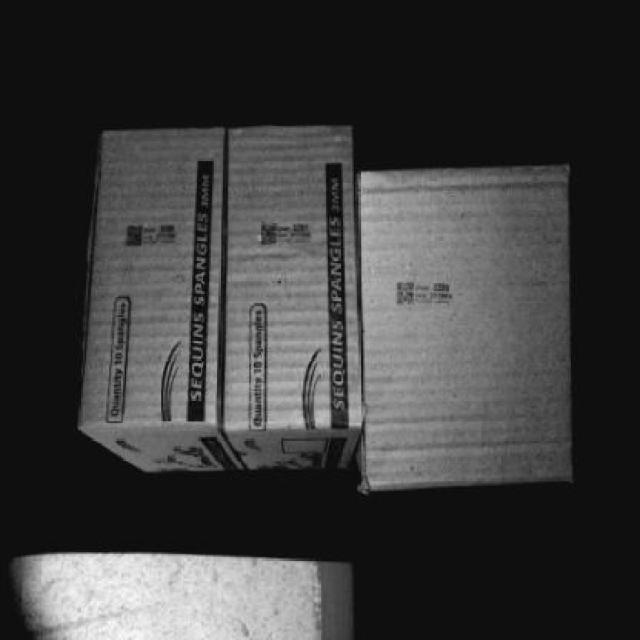cardboxes: (359, 159, 567, 475), (82, 129, 227, 423), (229, 129, 365, 442)
